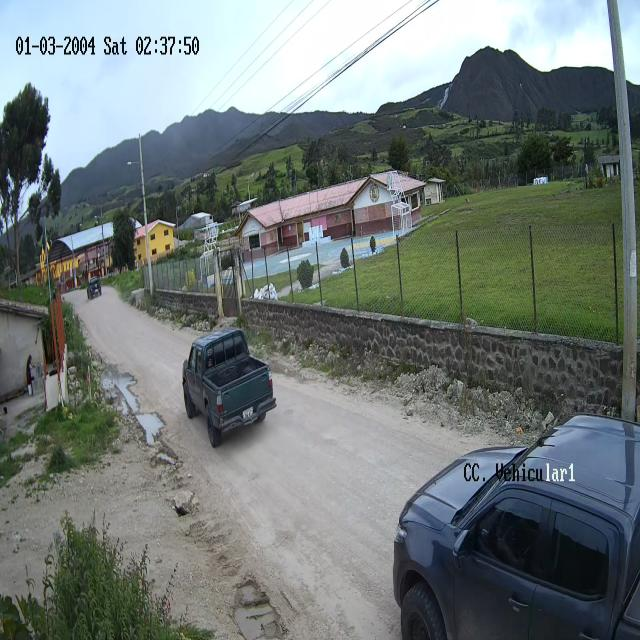CMT: (393, 417, 640, 639), (182, 328, 277, 447)
